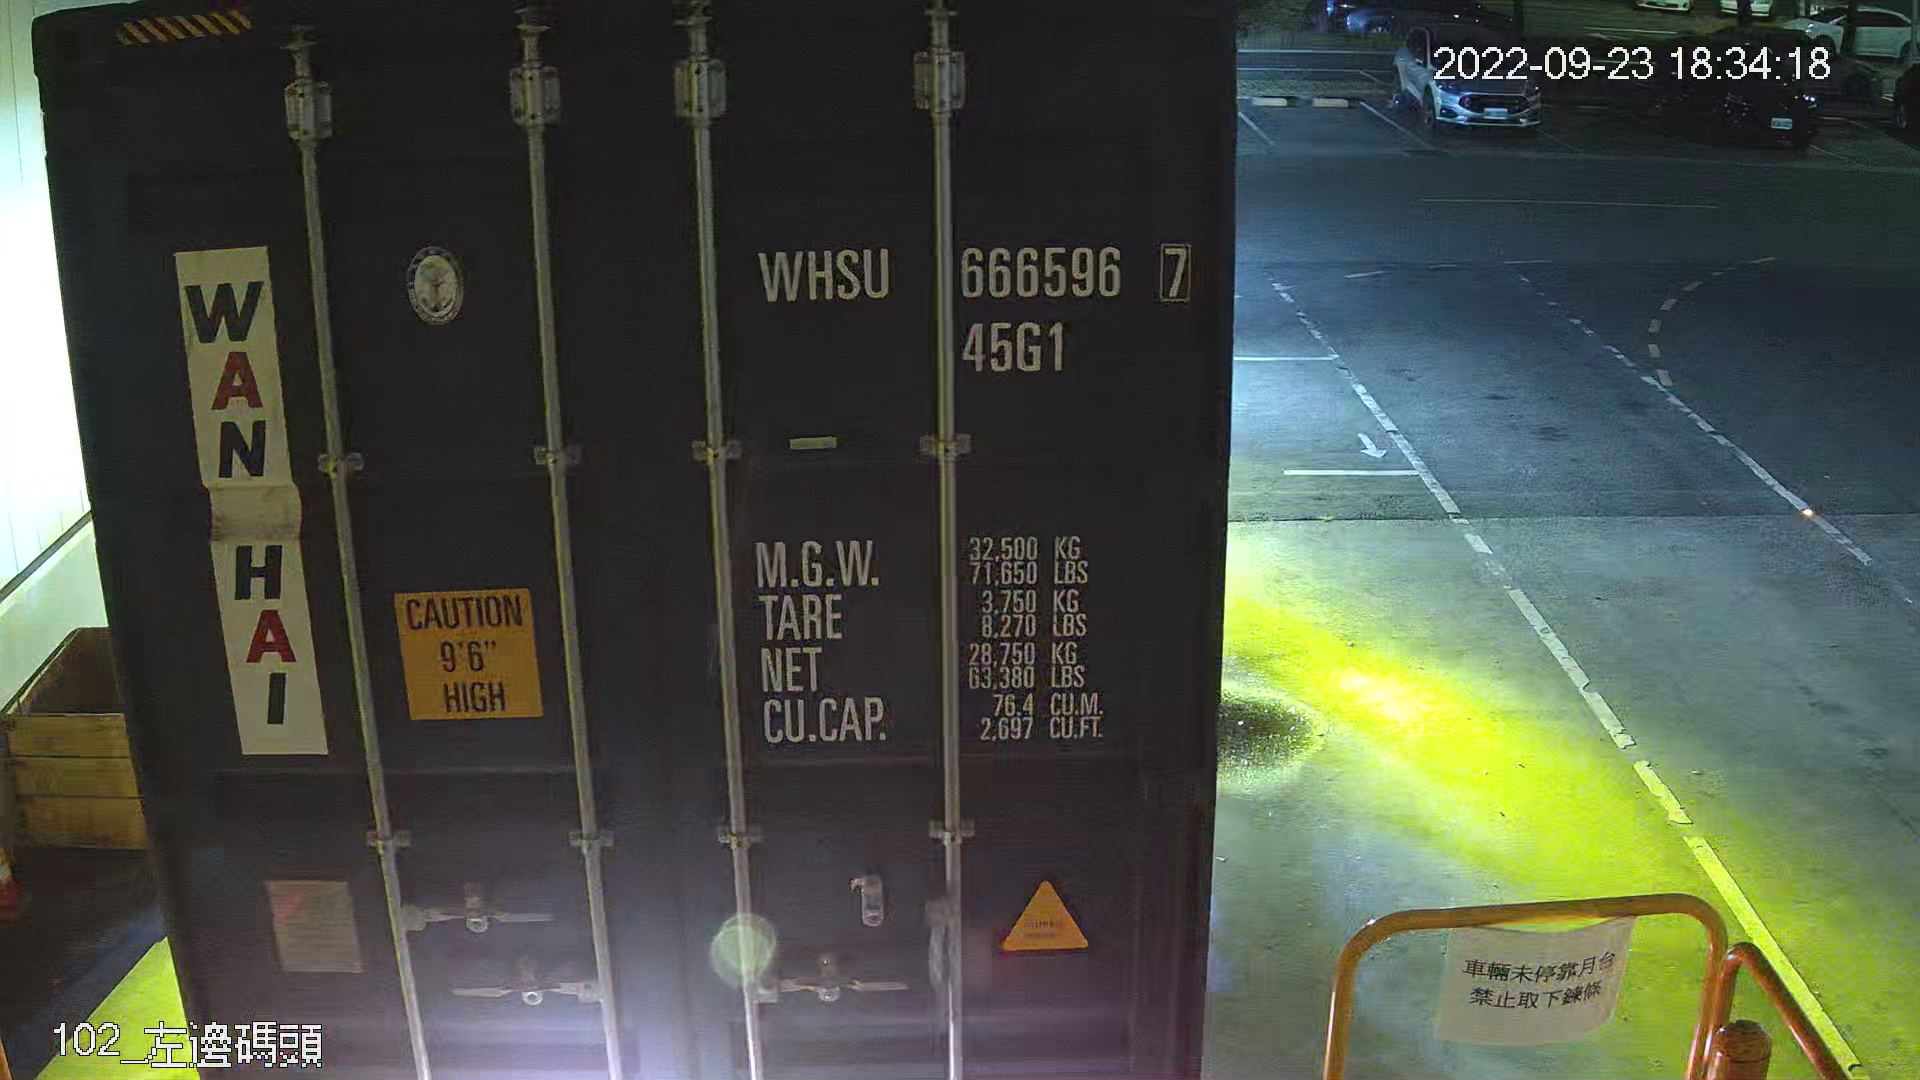container: (748, 218, 1209, 386)
